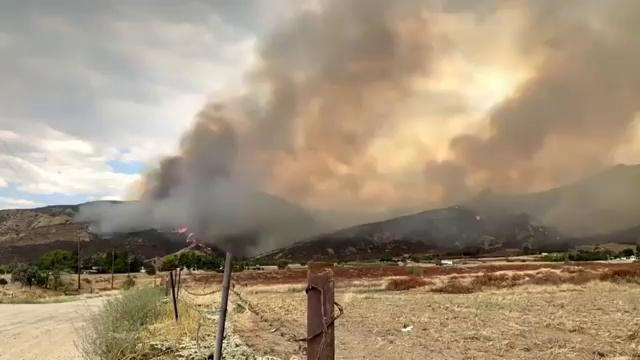smoke: (185, 119, 355, 227), (530, 105, 595, 178)
